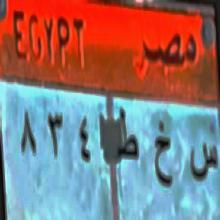3: (46, 108, 66, 166)
4: (72, 111, 96, 174)
8: (16, 105, 38, 168)
Taa: (114, 106, 141, 167)
khaa: (152, 114, 175, 196)
seen: (187, 133, 219, 191)
